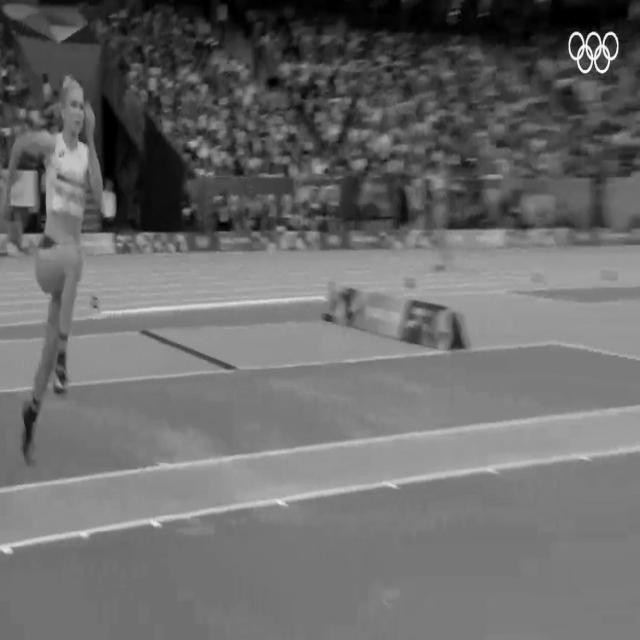run: (2, 72, 104, 462)
